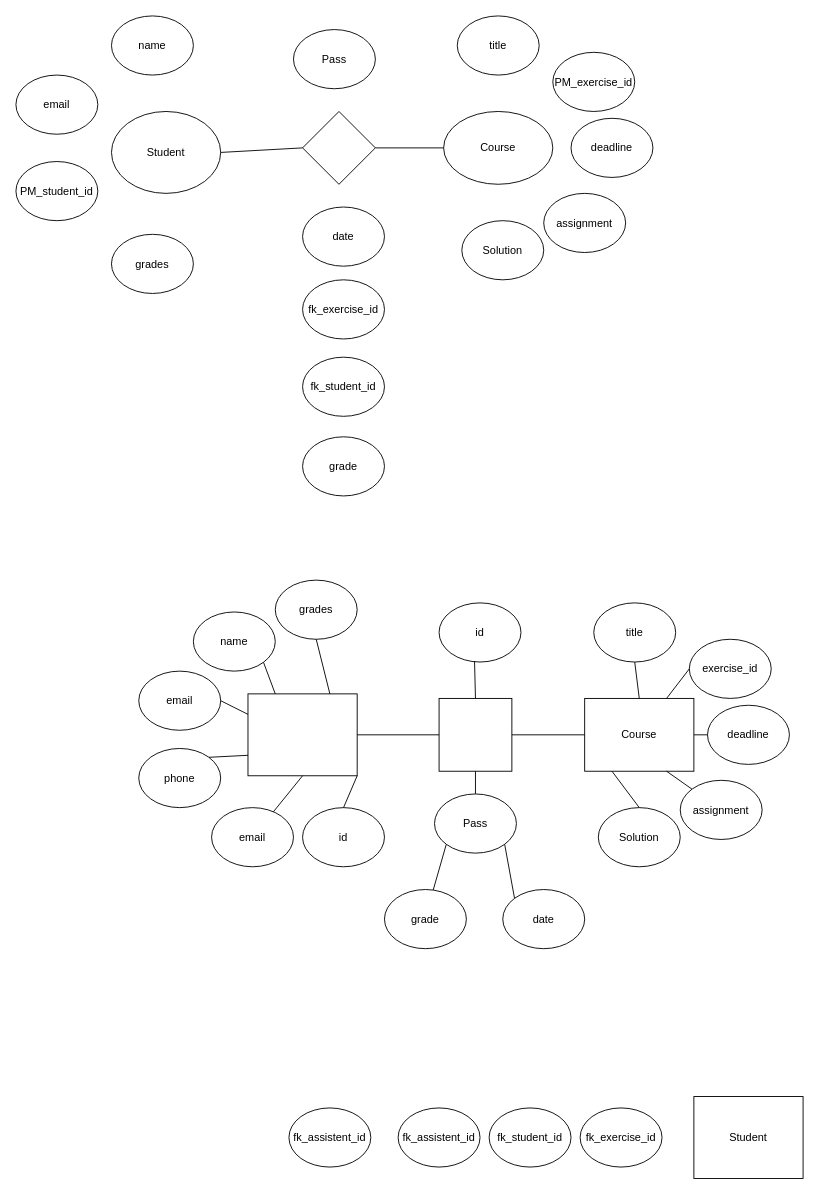
Image size: 819x1195. Some labels were removed from this diagram. Each missing label, with the box of its shape:
Approved: (302, 111, 375, 184)
grade assignment: (438, 698, 512, 771)
Role: (247, 693, 357, 776)
